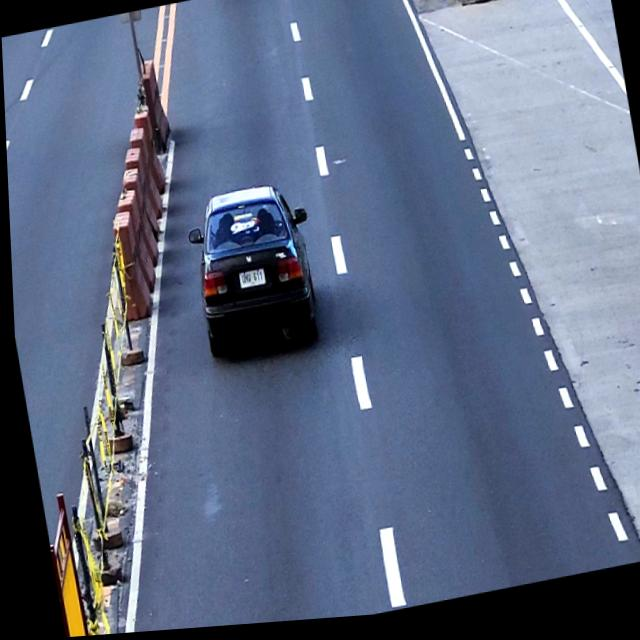Car: (179, 180, 325, 368)
License-Plate: (235, 272, 263, 293)
